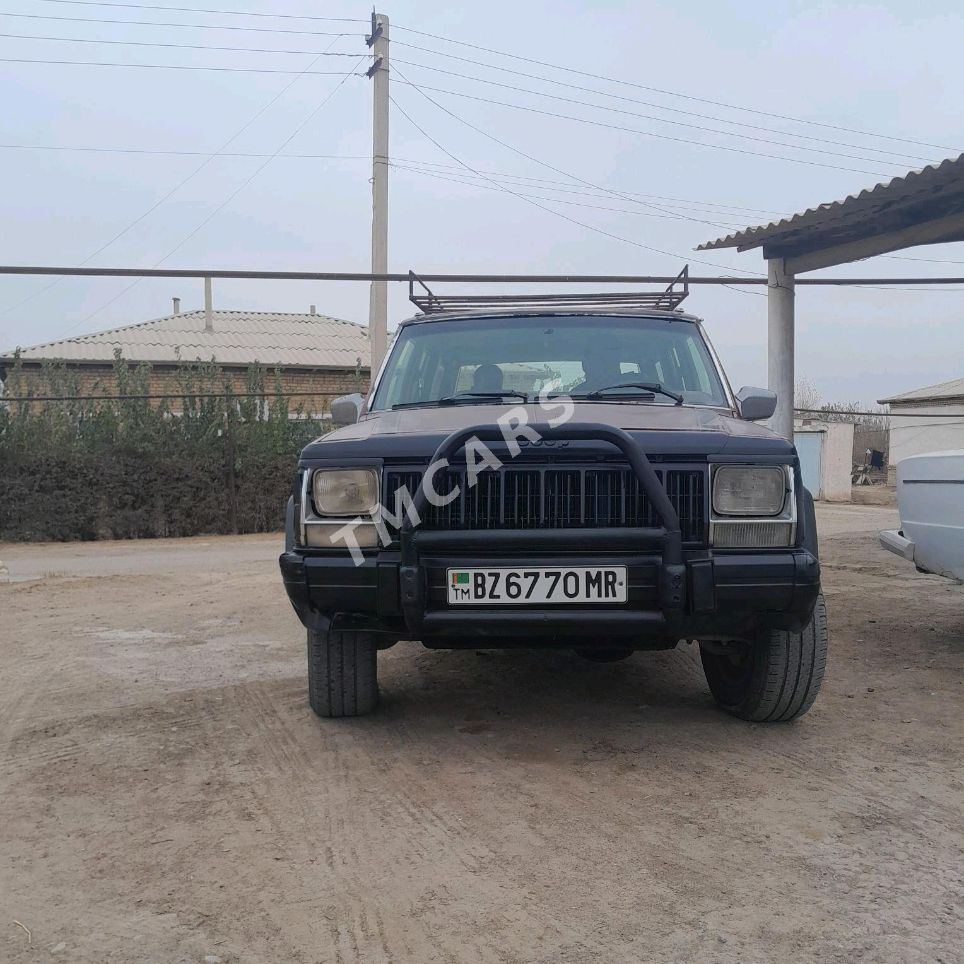license plate: (449, 567, 627, 604)
truck: (278, 296, 834, 732)
